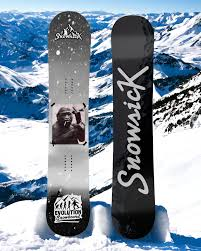snowboard: (110, 14, 157, 240), (47, 10, 91, 236)
